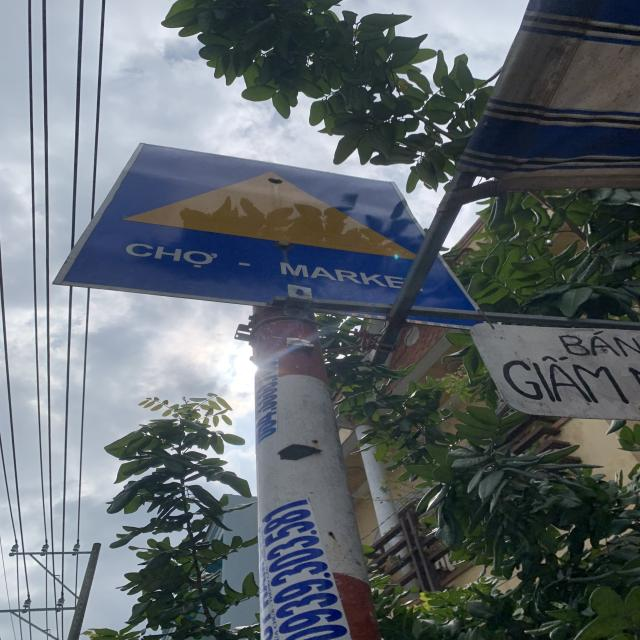Cho_Quay_Xe: (61, 141, 460, 323)
